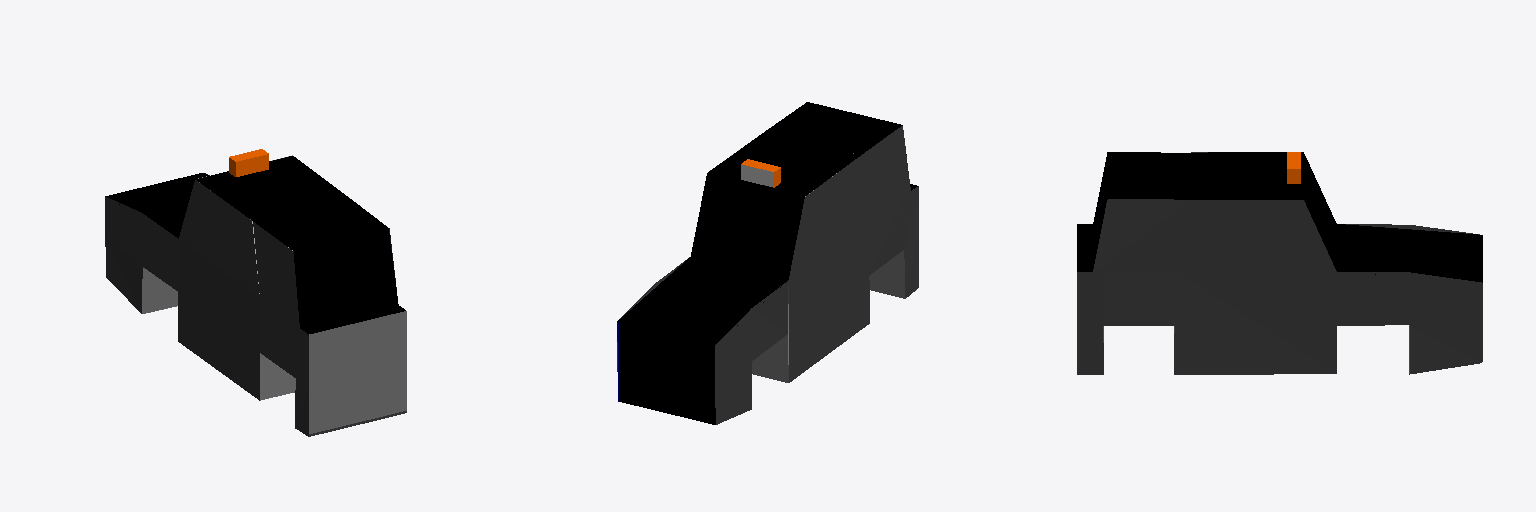
The picture shows the model from 3 angles: view 1: azimuth 30°, elevation 25°; view 2: azimuth 150°, elevation 25°; view 3: azimuth 270°, elevation 25°; orthographic projection.
Visible parts, largest first — view 1: right, top, back, underneath, taxi_sign; view 2: top, right, front, underneath; view 3: left, top.
Boxes of the visible parts, x1=… form: right: x1=105, y1=180, x2=308, y2=436; top: x1=106, y1=156, x2=405, y2=334; back: x1=309, y1=311, x2=406, y2=436; underneath: x1=142, y1=267, x2=295, y2=400; taxi_sign: x1=229, y1=149, x2=268, y2=176; top: x1=618, y1=102, x2=917, y2=344; right: x1=715, y1=126, x2=918, y2=424; front: x1=617, y1=321, x2=715, y2=424; underneath: x1=752, y1=250, x2=905, y2=382; left: x1=1077, y1=200, x2=1482, y2=374; top: x1=1077, y1=152, x2=1482, y2=282.
Bounding box in the file's own units: 8.5 × 15.61 × 30.14.
1 materials, 1 textured.